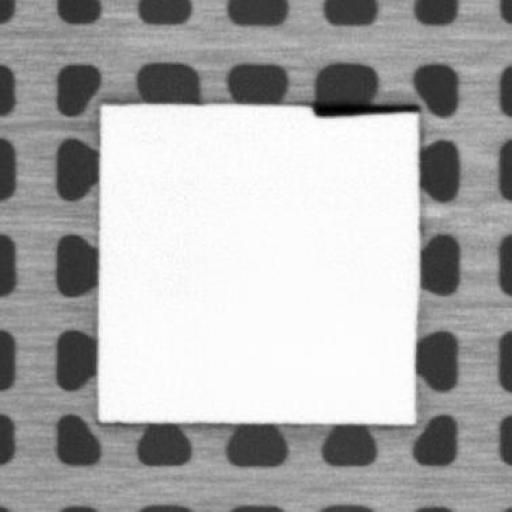DIE_BROKEN: (307, 98, 420, 119)
